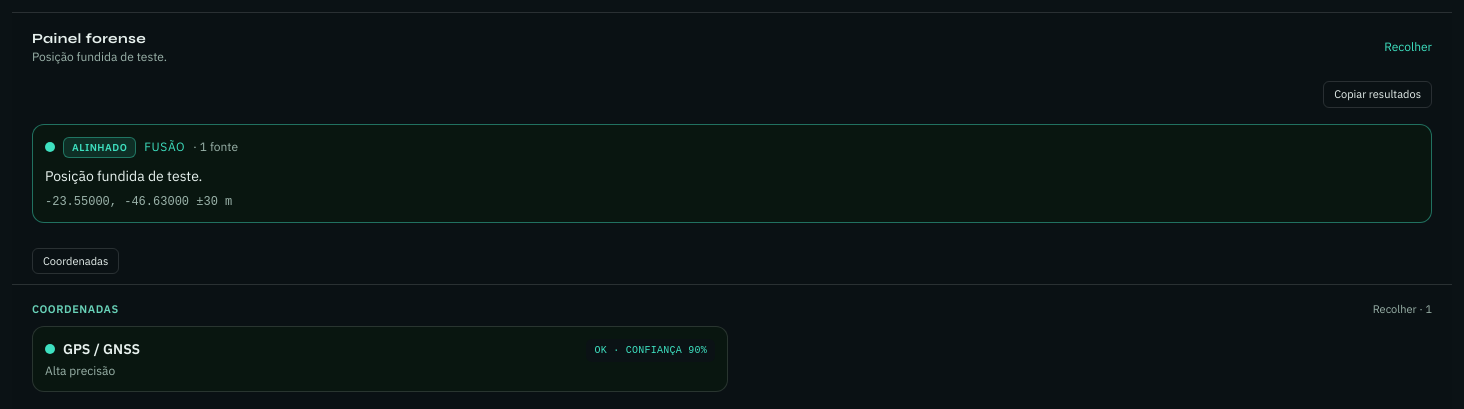
Test: ForensicsPanel › copies the full scan JSON when Copiar resultados is clicked
Click the button "Copiar resultados" at (1378, 94), box [1323, 81, 1432, 108]
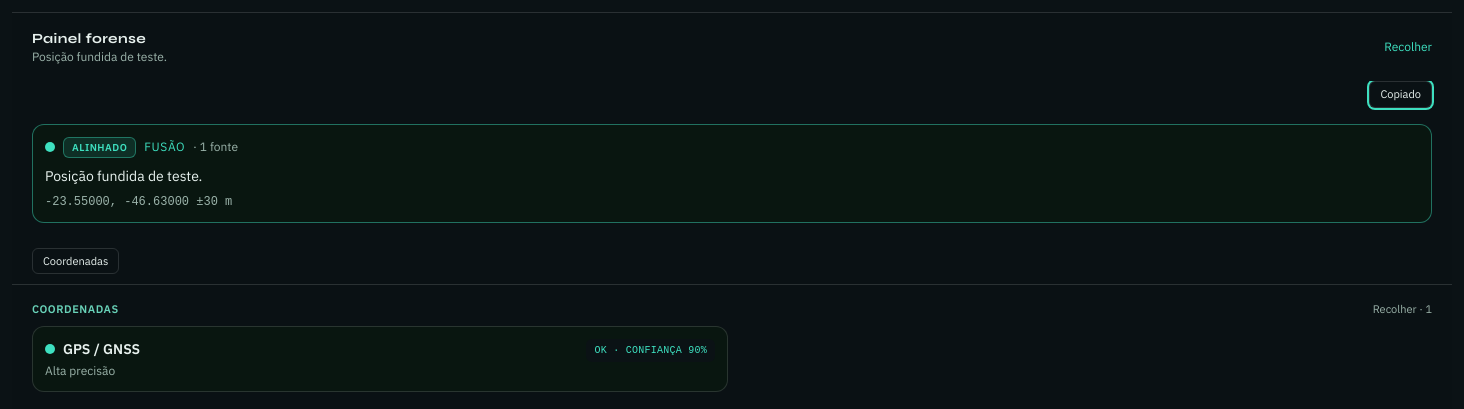
Expected: the button "Copiado" is shown, [1370, 81, 1432, 108]
